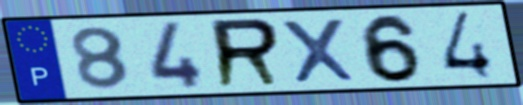4: (436, 9, 500, 82), (146, 19, 207, 92)
6: (359, 12, 430, 85)
8: (67, 24, 133, 92)
R: (208, 16, 286, 91)
X: (276, 16, 362, 86)
